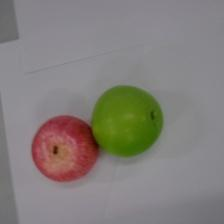green: (89, 84, 164, 157)
red: (30, 114, 100, 183)
